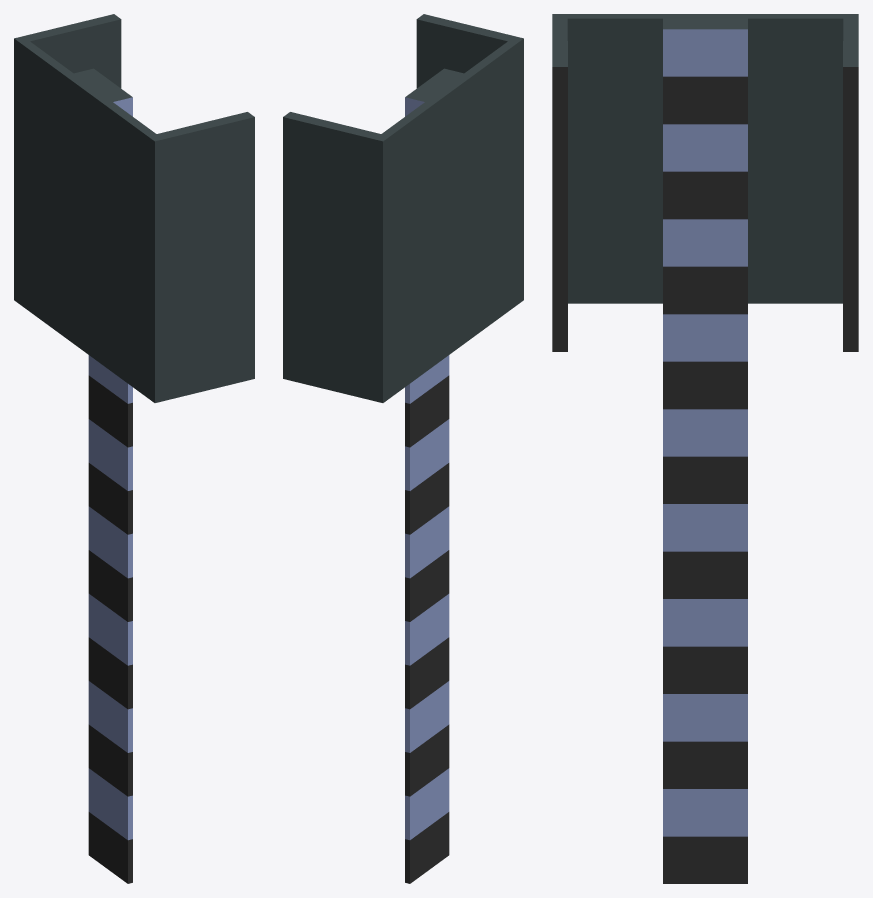
File: Lift.fbx
3 renders of one model, left to right at view 1: azimuth 30°, elevation 25°; view 2: azimuth 150°, elevation 25°; view 3: azimuth 270°, elevation 25°, orthographic. The views are drawn at different scales.
Parts seen in each view (by area): view 1: Circle.016; view 2: Circle.016; view 3: Circle.016.
Part boxes in pixels (x1,y1,x2,y2): Circle.016: (14,14,254,883); Circle.016: (283,14,523,883); Circle.016: (552,14,858,883).
Bounding box in the file's own units: 2 × 15 × 4.87.
